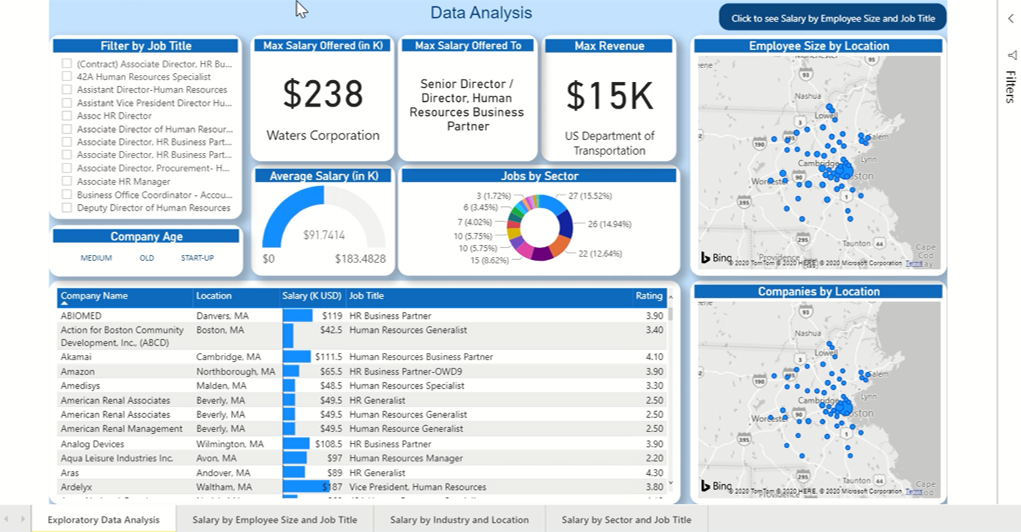

Layout of this report page (visuals, bound fields, positions):
{"tool":"powerbi","page":{"name":"Exploratory Data Analysis","canvas":[1280,720],"ordinal":0},"visuals":[{"type":"tableEx","fields":{"Values":["Jobs_HRM.Company Name","Jobs_HRM.Location","Sum(Jobs_HRM.Average Salary (in K))","Jobs_HRM.Job Title","Jobs_HRM.Rating"]},"box":[0,400.7,900.4,318.8],"z":0},{"type":"gauge","title":"Average Salary (in K)","fields":{"Y":["Jobs_HRM.Avg Salary"]},"box":[287.7,235.8,205.3,158.6],"z":1000},{"type":"donutChart","title":"Jobs by Sector","fields":{"Category":["Jobs_HRM.Sector"],"Y":["CountNonNull(Jobs_HRM.Job Title)"]},"box":[497.6,235.8,402.8,158.6],"z":2000},{"type":"slicer","title":"Filter by Job Title","fields":{"Values":["Jobs_HRM.Job Title"]},"box":[0,50.8,275.2,262.8],"z":3000},{"type":"slicer","title":"Company Age","fields":{"Values":["Jobs_HRM.Company Age Category"]},"box":[0,321.4,276.8,73.1],"z":4000},{"type":"kpi","title":"Max Salary Offered (in K)","fields":{"TrendLine":["Jobs_HRM.Company Name"],"Indicator":["Max(Jobs_HRM.Salary (K USD))"]},"box":[287.4,50.8,204.8,180.4],"z":5000},{"type":"kpi","title":"Max Revenue","fields":{"TrendLine":["Jobs_HRM.Company Name"],"Indicator":["Max(Jobs_HRM.Revenue (million USD))"]},"box":[701.4,50.8,192.8,180.4],"z":6000},{"type":"card","title":"Max Salary Offered To","fields":{"Values":["Min(Jobs_HRM.Job Title)"]},"box":[497.6,50.8,199,180.4],"z":7000},{"type":"map","title":"Companies by Location","fields":{"Category":["Jobs_HRM.Location"],"Size":["CountNonNull(Jobs_HRM.Company Name)"]},"box":[914.4,400.7,365.4,318.8],"z":7500},{"type":"map","fields":{"Category":["Jobs_HRM.Location"],"Size":["Sum(Jobs_HRM.Employee Size)"]},"box":[914.4,50.8,365.4,343.7],"z":8000},{"type":"actionButton","box":[953.9,4.6,325.6,39.7],"z":8001},{"type":"textbox","box":[377.6,0,476.9,50.4],"z":8002}]}

Visuals, with their boxes on the page's 1280x720 design canvas (x1, y1, x2, y2). These are canvas units, not pixel positions in the 1021x532 screenshot, which may show the page scaled, cropped or inside an application window:
tableEx - Jobs_HRM.Company Name x Jobs_HRM.Location: [left=0, top=401, right=900, bottom=720]
"Average Salary (in K)" gauge: [left=288, top=236, right=493, bottom=394]
"Jobs by Sector" donutChart: [left=498, top=236, right=900, bottom=394]
"Filter by Job Title" slicer: [left=0, top=51, right=275, bottom=314]
"Company Age" slicer: [left=0, top=321, right=277, bottom=394]
"Max Salary Offered (in K)" kpi: [left=287, top=51, right=492, bottom=231]
"Max Revenue" kpi: [left=701, top=51, right=894, bottom=231]
"Max Salary Offered To" card: [left=498, top=51, right=697, bottom=231]
"Companies by Location" map: [left=914, top=401, right=1280, bottom=720]
map - Jobs_HRM.Location x Sum(Jobs_HRM.Employee Size): [left=914, top=51, right=1280, bottom=394]
actionButton: [left=954, top=5, right=1280, bottom=44]
textbox: [left=378, top=0, right=854, bottom=50]
